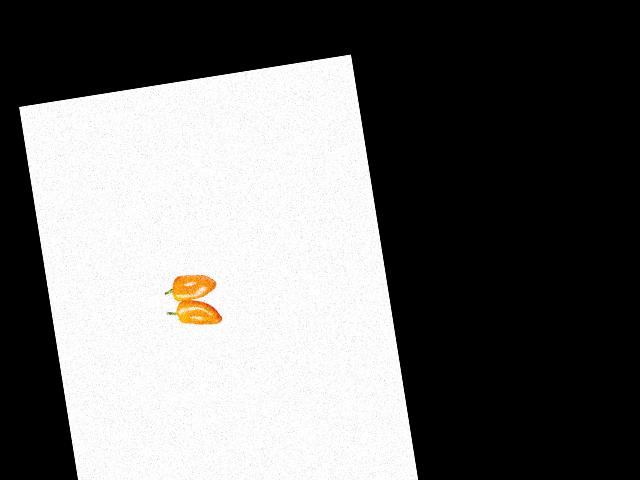bell_pepper: (160, 263, 229, 305)
